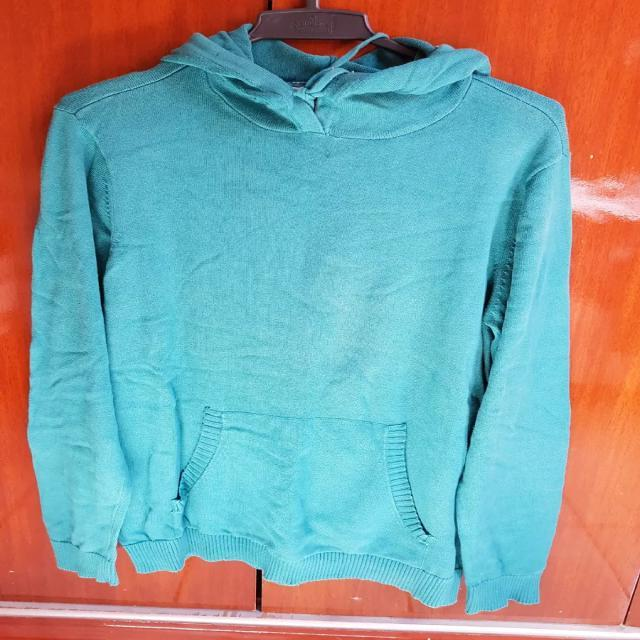sweater: (24, 21, 572, 617)
